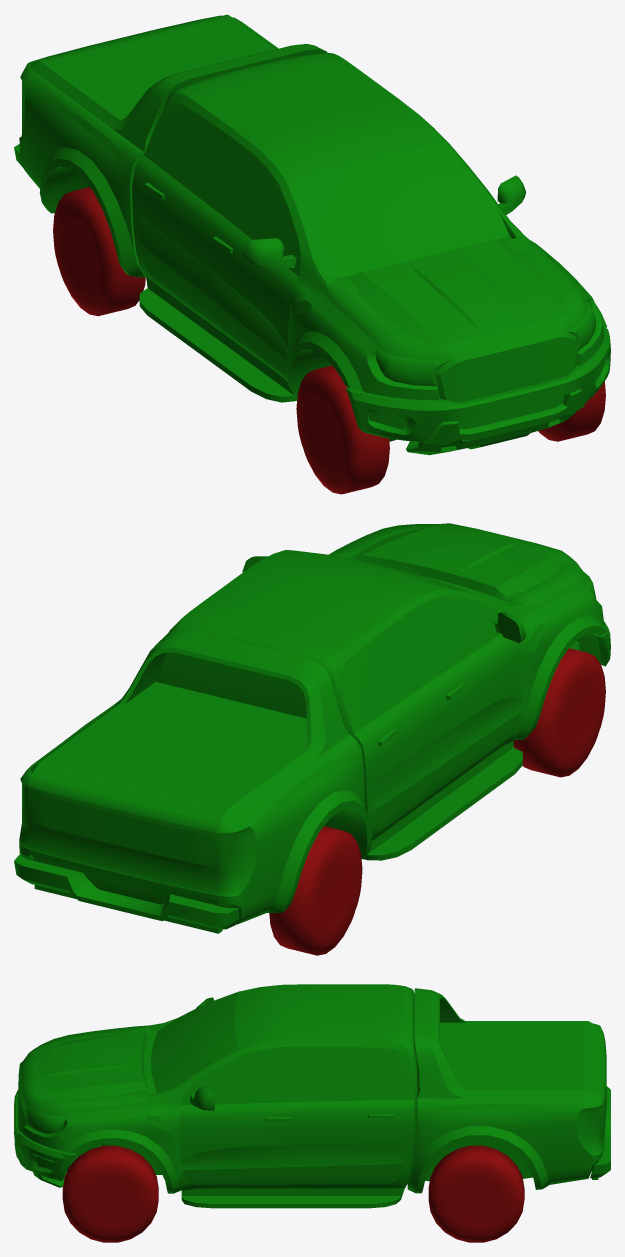
The model's file is Ranger_Raptor_Civilian_OBJ.obj.
The picture shows the model from 3 angles, top to bottom: view 1: azimuth 30°, elevation 25°; view 2: azimuth 150°, elevation 25°; view 3: azimuth 270°, elevation 25°; orthographic projection. The views are drawn at different scales.
Visible parts, largest first — view 1: Ford_Raptor_BASE, Ford_Raptor_RF, Ford_Raptor_RB, Ford_Raptor_LF; view 2: Ford_Raptor_BASE, Ford_Raptor_RB, Ford_Raptor_RF; view 3: Ford_Raptor_BASE, Ford_Raptor_LF, Ford_Raptor_LB.
Boxes of the visible parts, bbox=[...] form: Ford_Raptor_BASE: bbox=[14, 14, 610, 455]; Ford_Raptor_RF: bbox=[296, 365, 389, 494]; Ford_Raptor_RB: bbox=[53, 187, 145, 316]; Ford_Raptor_LF: bbox=[538, 381, 605, 441]; Ford_Raptor_BASE: bbox=[14, 523, 610, 933]; Ford_Raptor_RB: bbox=[269, 826, 362, 955]; Ford_Raptor_RF: bbox=[513, 648, 605, 777]; Ford_Raptor_BASE: bbox=[14, 984, 610, 1208]; Ford_Raptor_LF: bbox=[62, 1145, 158, 1242]; Ford_Raptor_LB: bbox=[428, 1145, 524, 1242].
Size of the model in its own units: 83.82 by 72.14 by 207.
